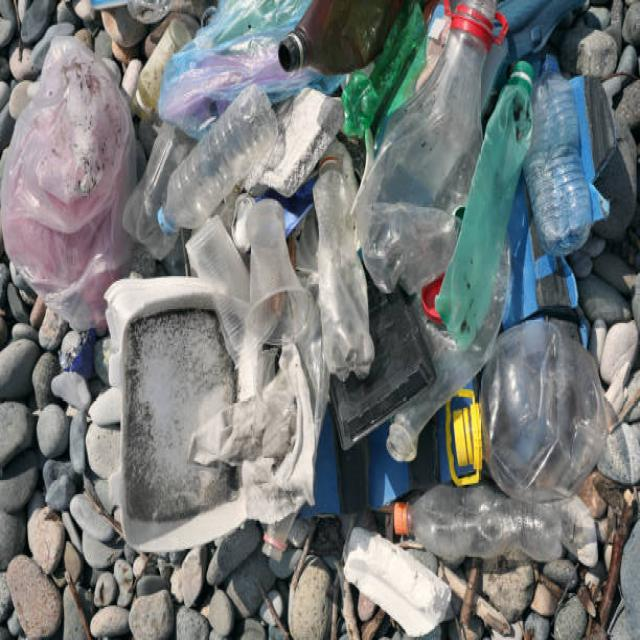plastic: (232, 70, 583, 576)
